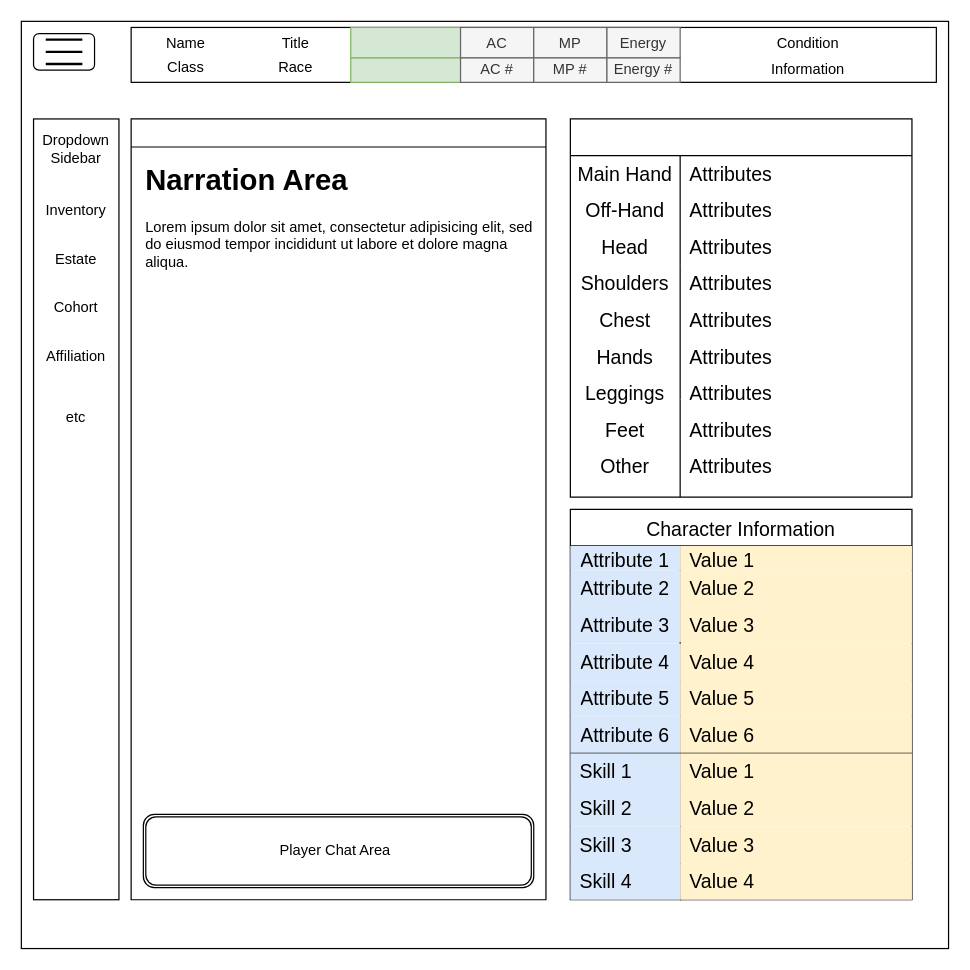
Image size: 970x970. Some labels were removed from this diagram. Here are the shapes that lost their labels. From the top down, the box of each, then its label:
(350, 26, 461, 58): HP
(350, 57, 461, 82): HP #
(569, 118, 912, 497): Gear
(130, 118, 546, 900): Dungeon Master
